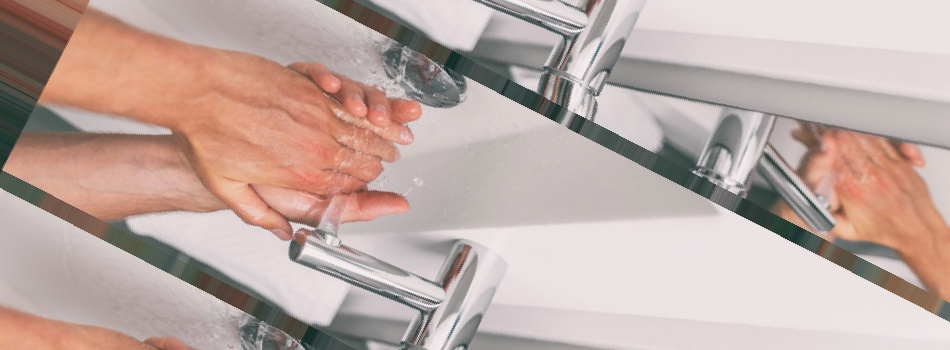washing hand: (176, 0, 497, 334)
